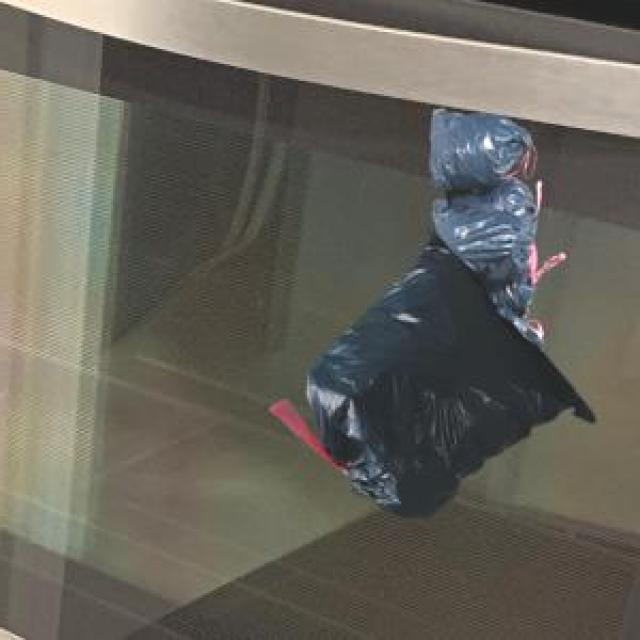Trashbag: (306, 264, 589, 516), (437, 185, 548, 285), (424, 101, 534, 192)
